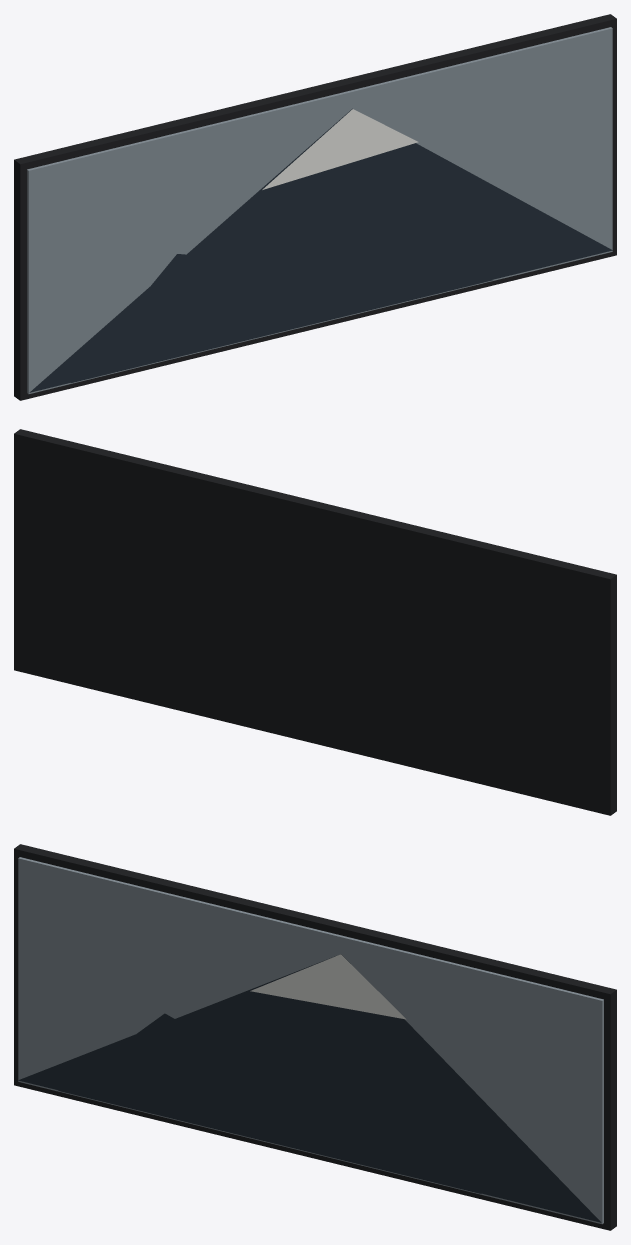
File: mountain_art.glb
3 views of the same model, one above another, from view 1: azimuth 30°, elevation 25°; view 2: azimuth 150°, elevation 25°; view 3: azimuth 330°, elevation 25° (orthographic).
Parts seen in each view (by area): view 1: mountain_art; view 2: mountain_art; view 3: mountain_art.
Boxes of the visible parts, x1,y1,x2,y2 form: mountain_art: [14, 14, 616, 400]; mountain_art: [14, 429, 616, 815]; mountain_art: [14, 844, 616, 1230].
Size of the model in its own units: 1.9 by 0.72 by 0.0515.
